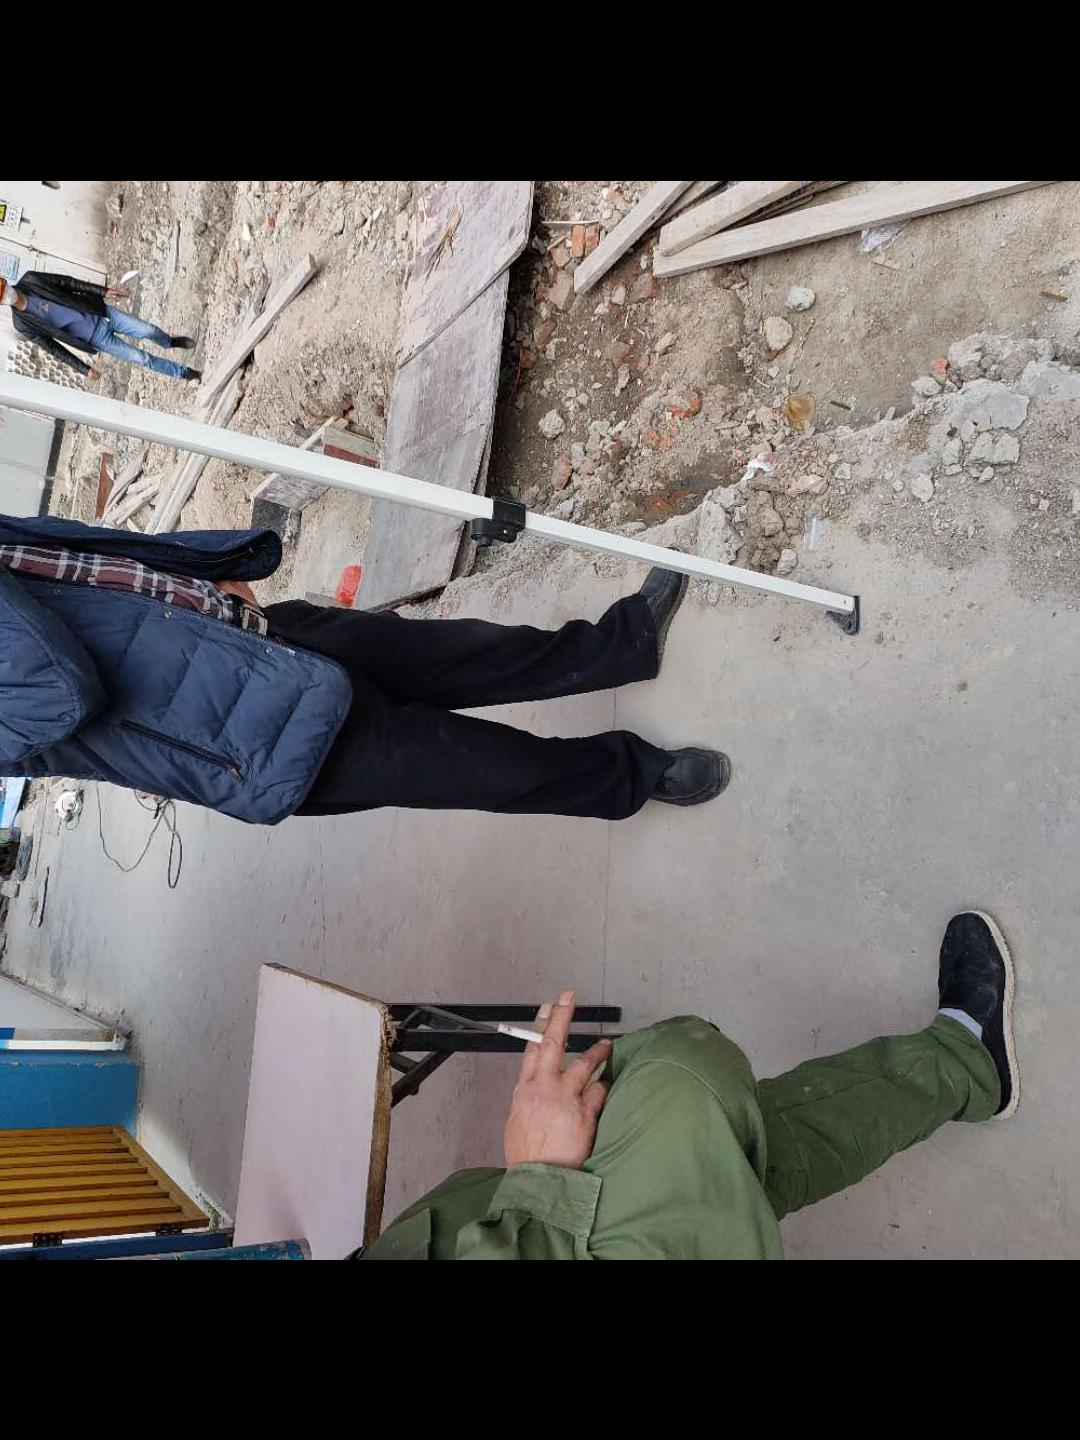Cigarette: (498, 1020, 544, 1045)
